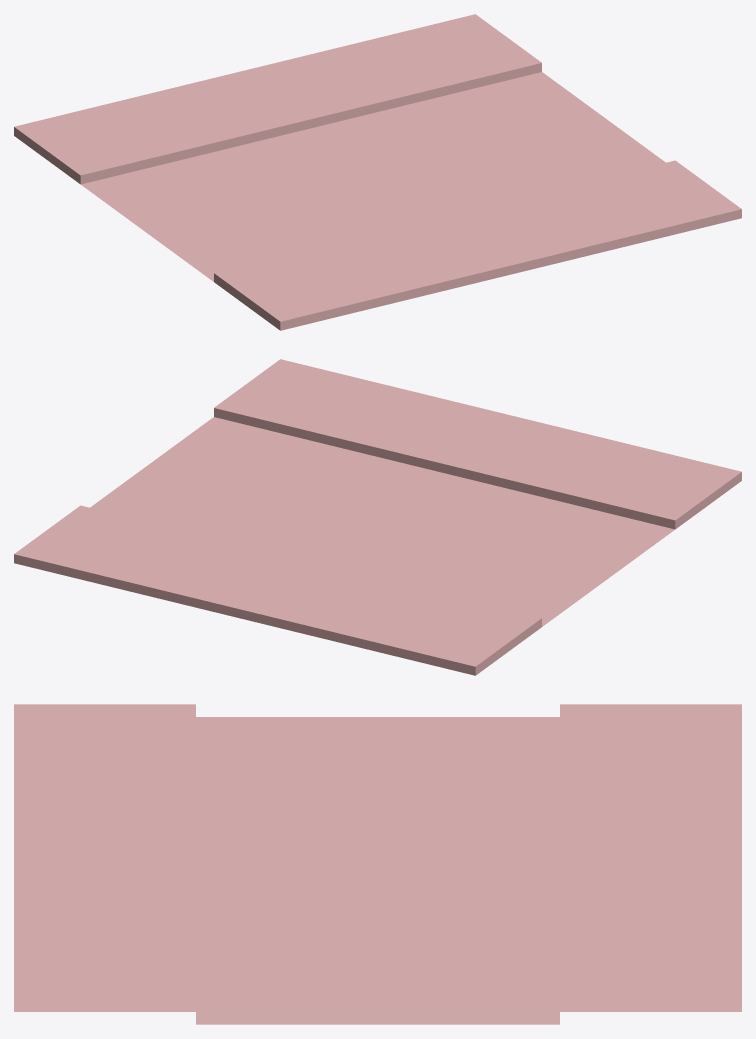
File: straight_road02_start.fbx
3 views of the same model, one above another, from view 1: azimuth 30°, elevation 25°; view 2: azimuth 150°, elevation 25°; view 3: azimuth 270°, elevation 25° (orthographic). The views are drawn at different scales.
Visible parts, largest first — view 1: straight_road7; view 2: straight_road7; view 3: straight_road7.
Boxes of the visible parts, <box> form: straight_road7: <box>14,14,741,330</box>; straight_road7: <box>14,359,741,675</box>; straight_road7: <box>14,704,741,1024</box>.
Size of the model in its own units: 1600 by 30 by 1600.
